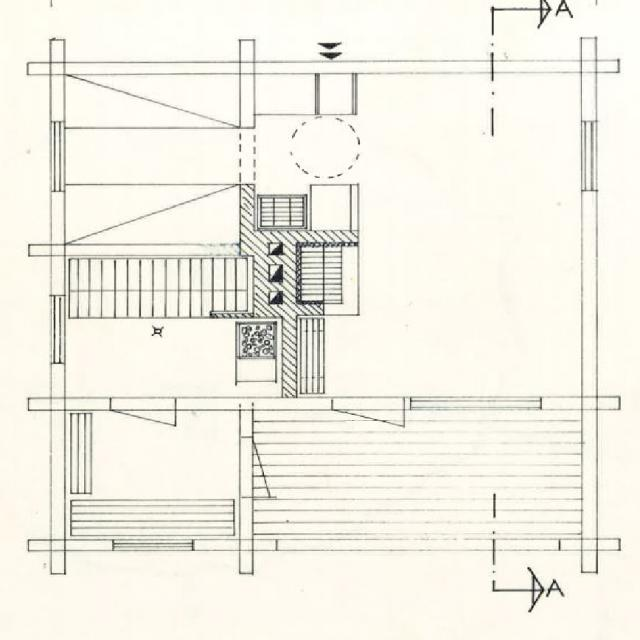door: (334, 396, 405, 473), (240, 436, 321, 496), (111, 396, 176, 468)
